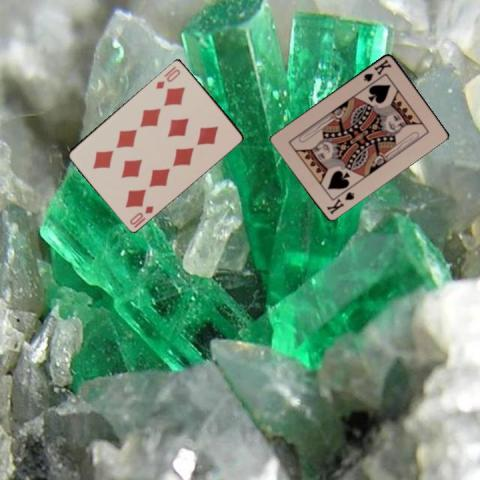10d: (153, 63, 181, 90), (127, 203, 155, 229)
Ks: (360, 56, 392, 83), (323, 189, 356, 215)
